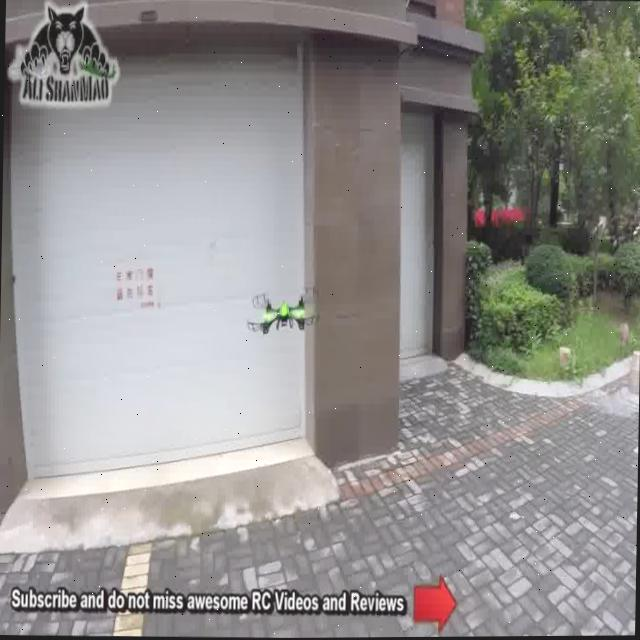drone: (240, 287, 314, 344)
